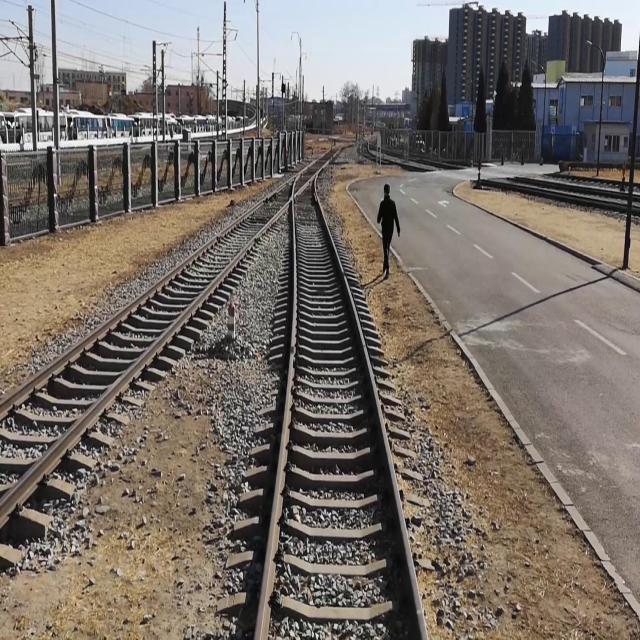rail: (0, 148, 332, 421), (314, 174, 428, 640), (254, 174, 301, 640)
